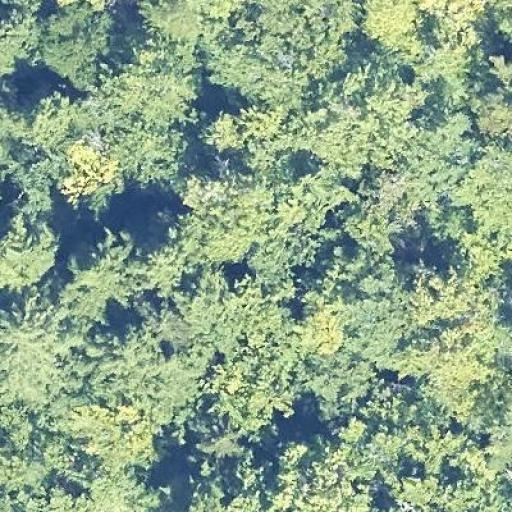tree-top: (173, 168, 335, 266), (312, 68, 423, 171), (268, 435, 386, 511), (57, 230, 148, 324), (248, 0, 360, 75), (0, 303, 80, 404), (1, 92, 121, 150), (71, 404, 162, 478), (202, 353, 288, 431), (37, 0, 116, 84), (223, 48, 313, 114), (118, 58, 205, 126), (178, 267, 248, 350), (0, 207, 63, 296), (411, 270, 498, 332), (422, 328, 486, 411), (0, 413, 75, 482), (86, 328, 155, 402), (348, 281, 412, 359), (419, 112, 479, 191), (127, 121, 191, 195), (82, 464, 175, 512), (292, 353, 386, 400), (289, 293, 356, 358), (143, 0, 235, 47), (147, 353, 208, 423), (466, 151, 512, 241), (356, 0, 426, 59), (411, 43, 474, 105), (0, 147, 70, 196), (128, 240, 188, 296), (422, 0, 481, 47), (67, 144, 118, 198), (0, 0, 41, 64), (459, 232, 505, 278), (469, 90, 512, 138)
